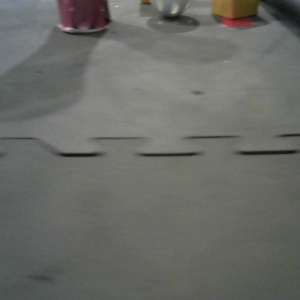middle: (56, 1, 111, 33)
